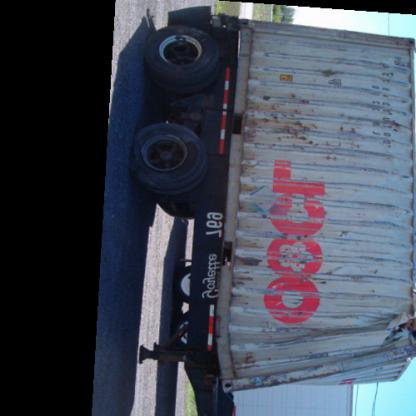Damage: (217, 141, 295, 407), (239, 42, 401, 170), (361, 280, 415, 374)
